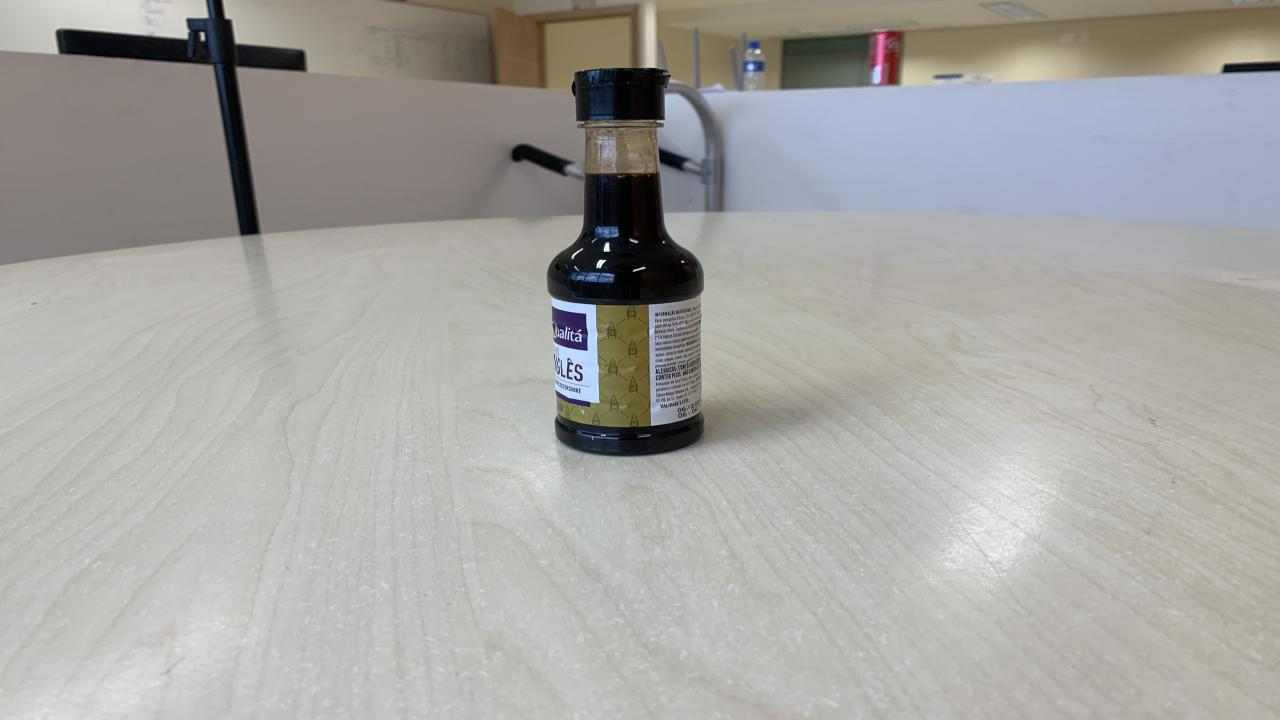English_Sauce-Pantry_Items: (543, 68, 706, 459)
